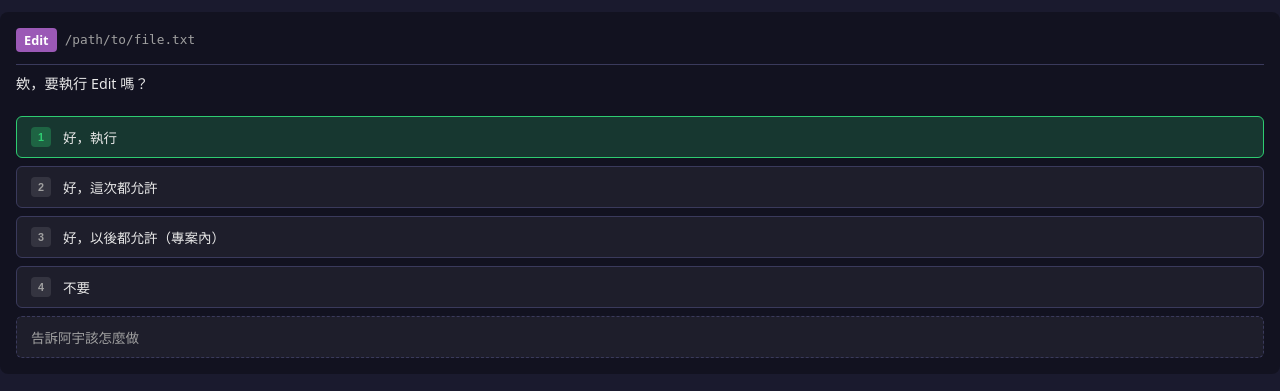
Scenario: PermissionDialog › shows custom input when clicking custom toggle button
What coordinates should you click on to do the following:
click the button with class "custom-toggle"
I would click on:
 (85, 339)
Its box is 16,316 -> 1264,358.
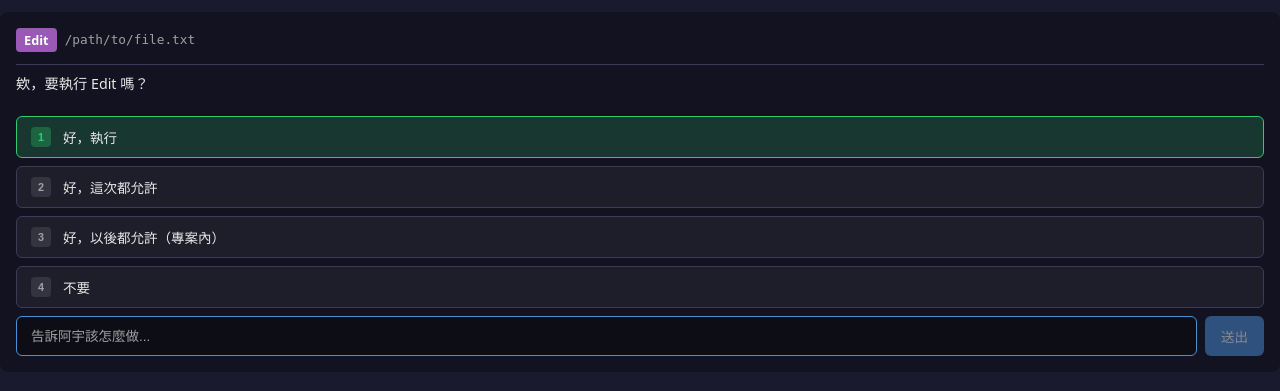
expect the element with class "custom-input-wrapper" is shown: met, box 16,316 -> 1264,356
